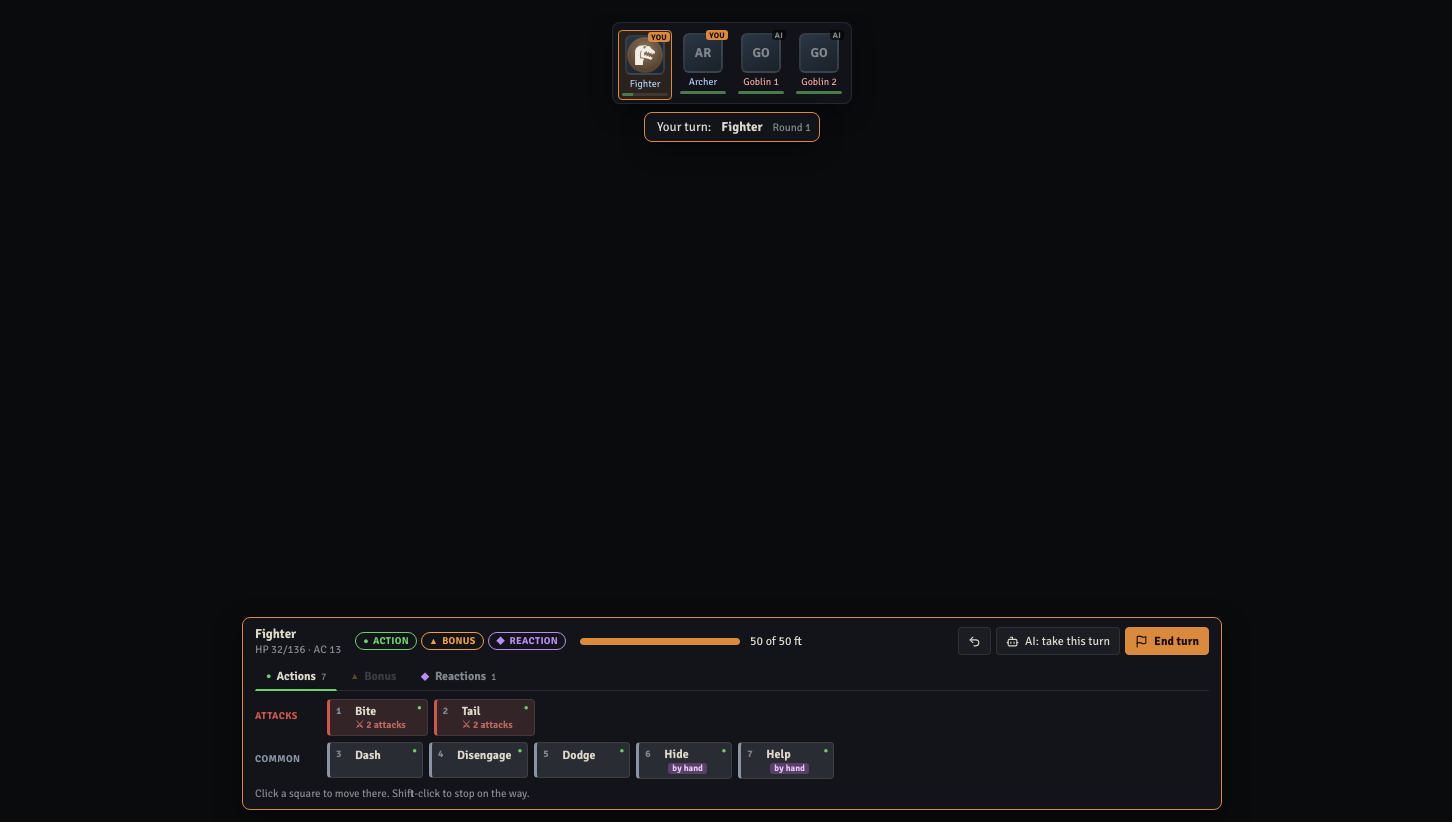
the hotbar › a tyrannosaurus's tail: no ring on the creature its bite went at, and a click on it says why
Click the button "1 Bite ⚔ 2 attacks": point(377, 718) [327, 699, 428, 736]
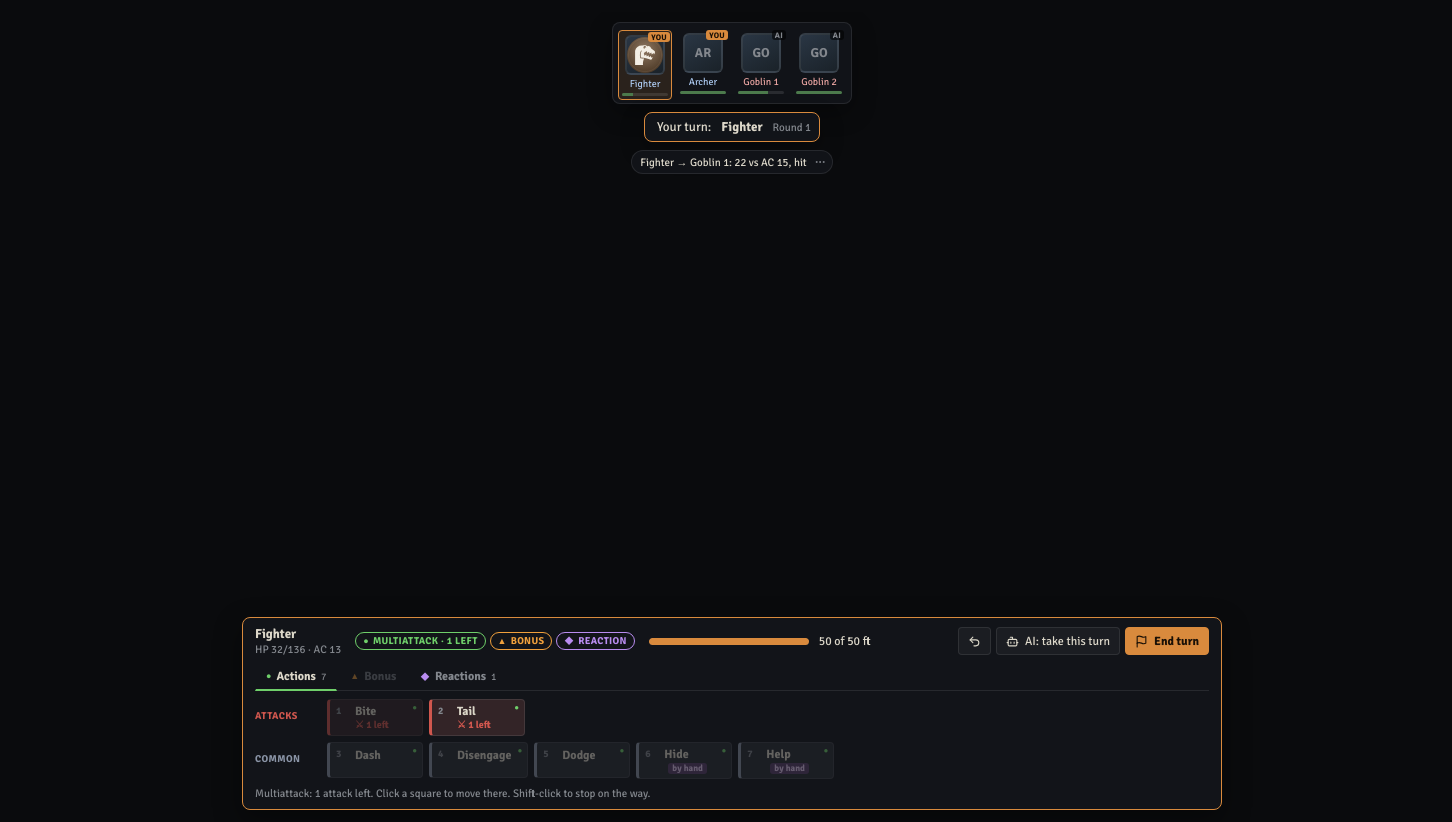
Click the button "2 Tail ⚔ 1 left": point(477, 718) [429, 699, 525, 736]
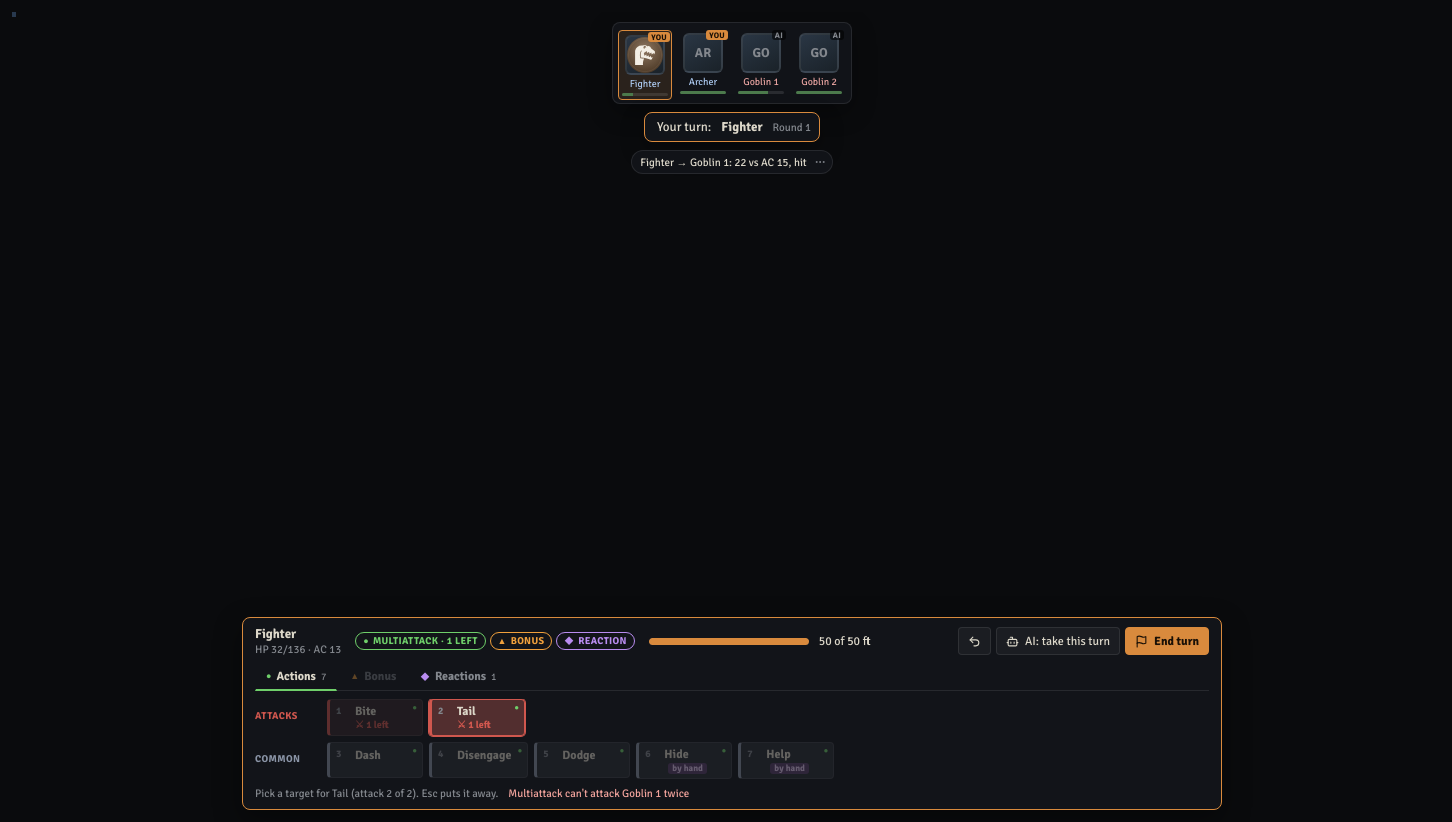
Check: the text "Multiattack can't attack Goblin 1 twice" is shown, box [508, 787, 689, 800]
